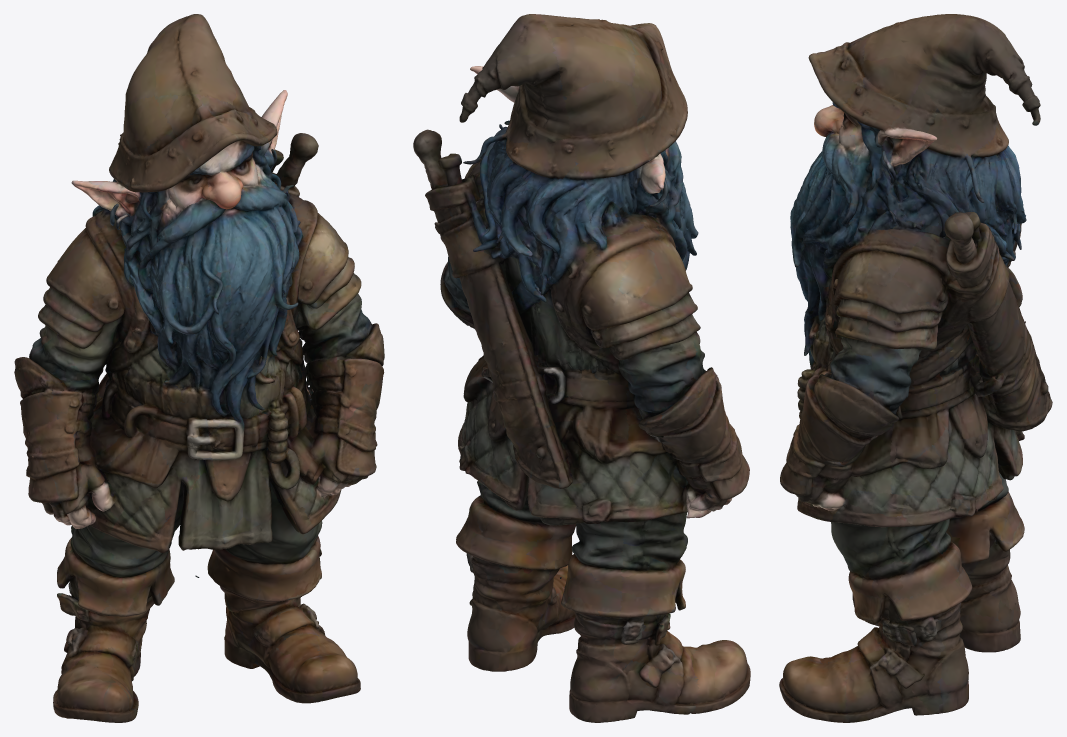
The model's file is gnomewarrior.glb.
The picture shows the model from 3 angles, left to right: view 1: azimuth 30°, elevation 25°; view 2: azimuth 150°, elevation 25°; view 3: azimuth 270°, elevation 25°; orthographic projection. The views are drawn at different scales.
Size of the model in its own units: 0.9777 by 1.9 by 0.7138.
1 material, 1 textured.
